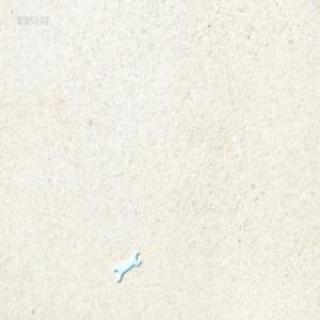Wrenchtrack_idkeyframe: (114, 252, 140, 282)
